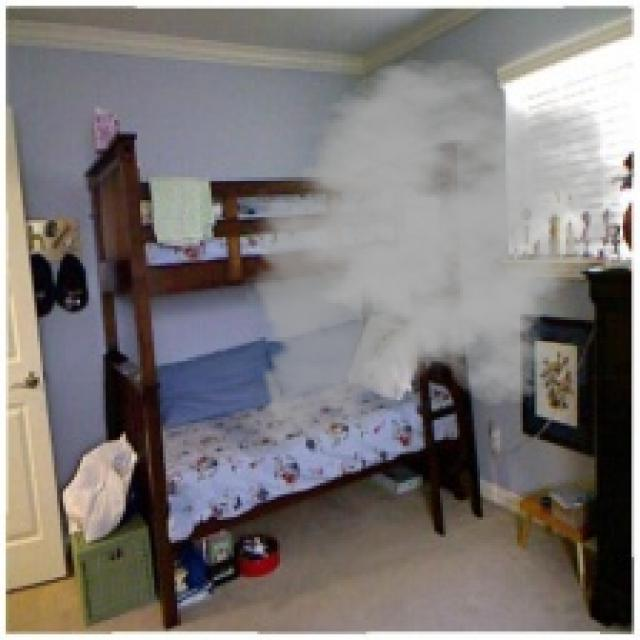smoke: (240, 57, 637, 446)
